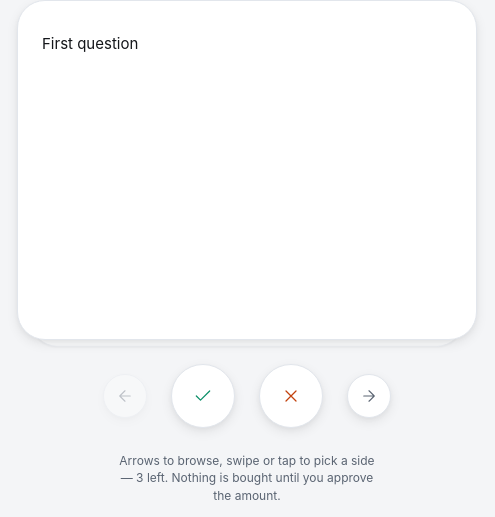
Scenario: SwipeDeck › advances after a pick, instead of snapping the same card back
Click the 2nd button named "Back YES": x=203, y=396 [171,364,235,428]
Wait 300 ms
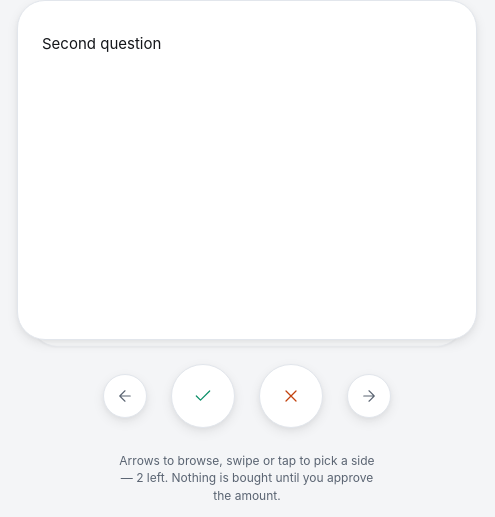
Now the text "First question" is gone
Now the text "Second question" is shown, box [42,34,161,53]
